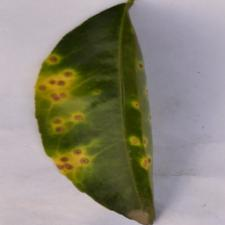Canker: (41, 39, 177, 204)
